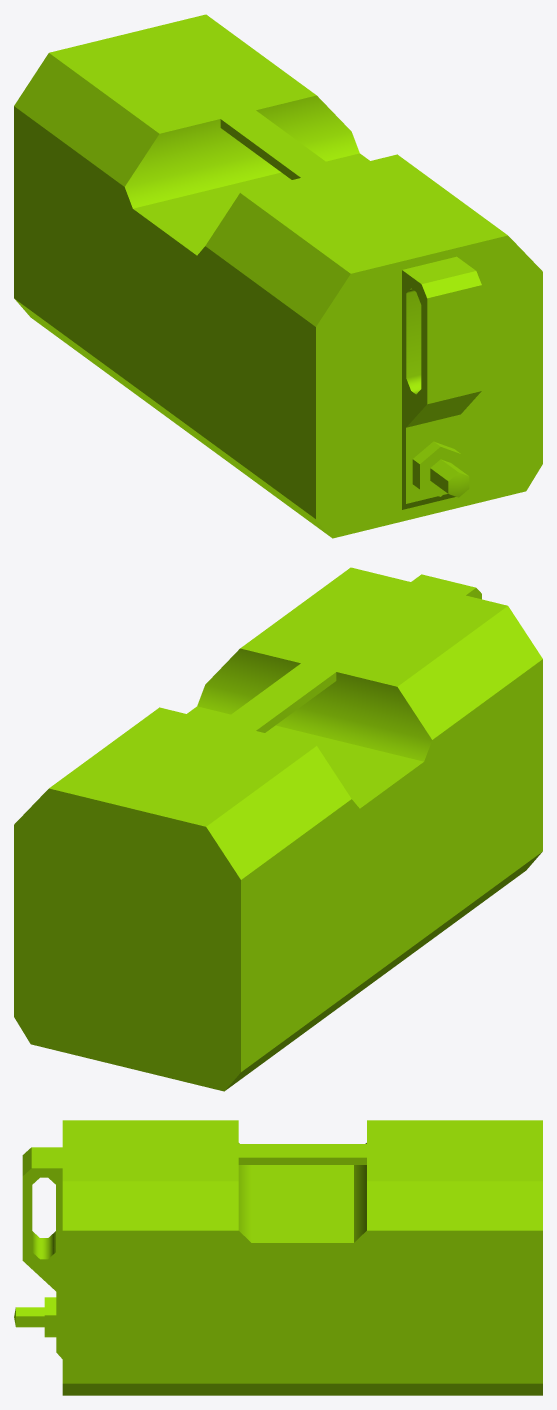
File: Asset_Garage2_4.fbx
3 renders of one model, top to bottom at view 1: azimuth 30°, elevation 25°; view 2: azimuth 150°, elevation 25°; view 3: azimuth 270°, elevation 25°, orthographic. The views are drawn at different scales.
Parts seen in each view (by area): view 1: Asset_Garage2_4; view 2: Asset_Garage2_4; view 3: Asset_Garage2_4.
Boxes of the visible parts, box(x1,y1,x2,y2) form: Asset_Garage2_4: box(14, 14, 542, 538); Asset_Garage2_4: box(14, 567, 542, 1091); Asset_Garage2_4: box(14, 1120, 542, 1395).
Bounding box in the file's own units: 18.16 × 19.9 × 46.08.
